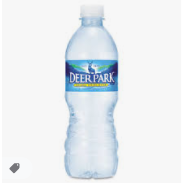Bottle: (65, 4, 119, 178)
